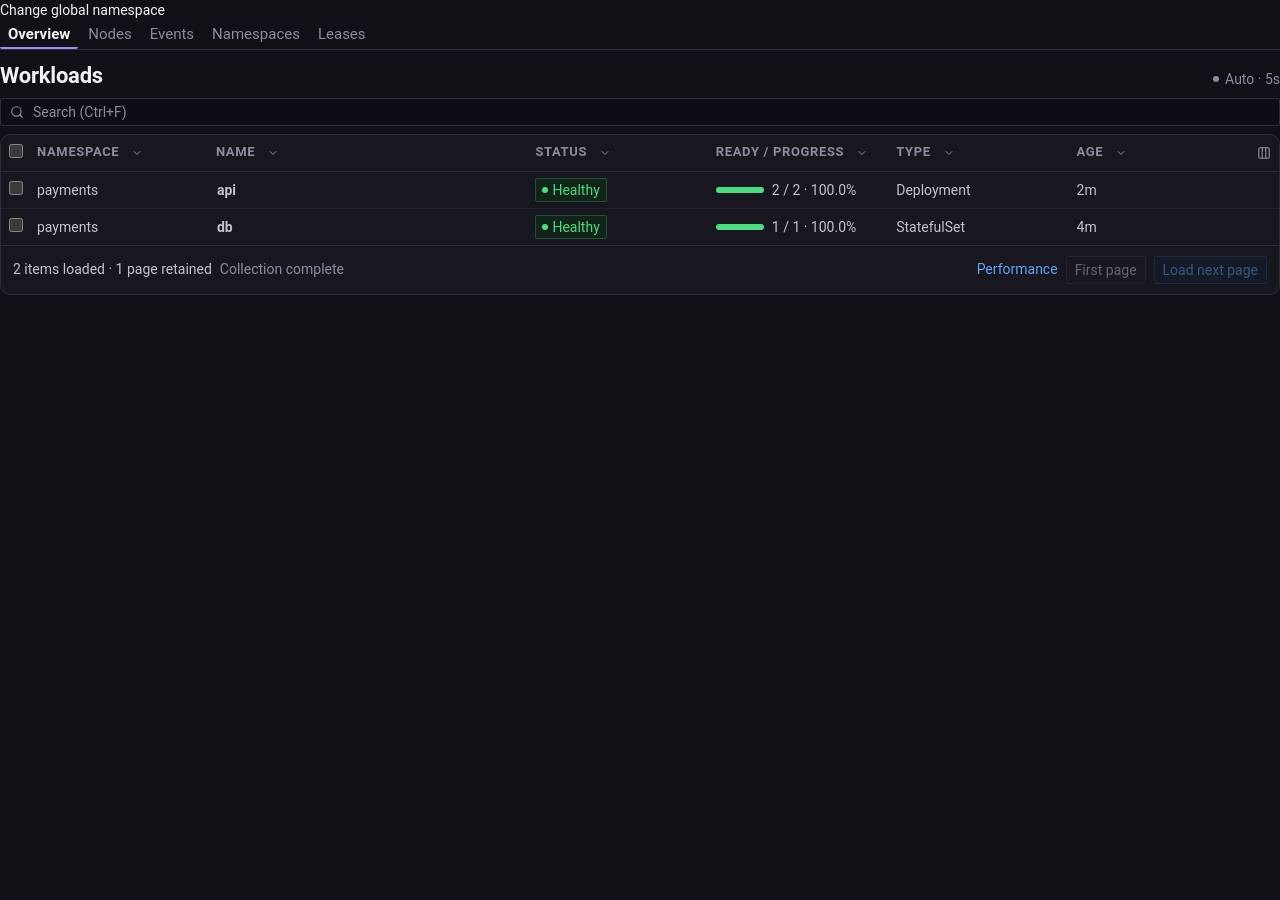
Test: read-only resource pages › restarts a compatible authorized workload selection with one contextual confirmation
Step 1. Click the checkbox named "Select row Deployment/payments/api" → (16, 188), box left=9, top=180, right=23, bottom=194
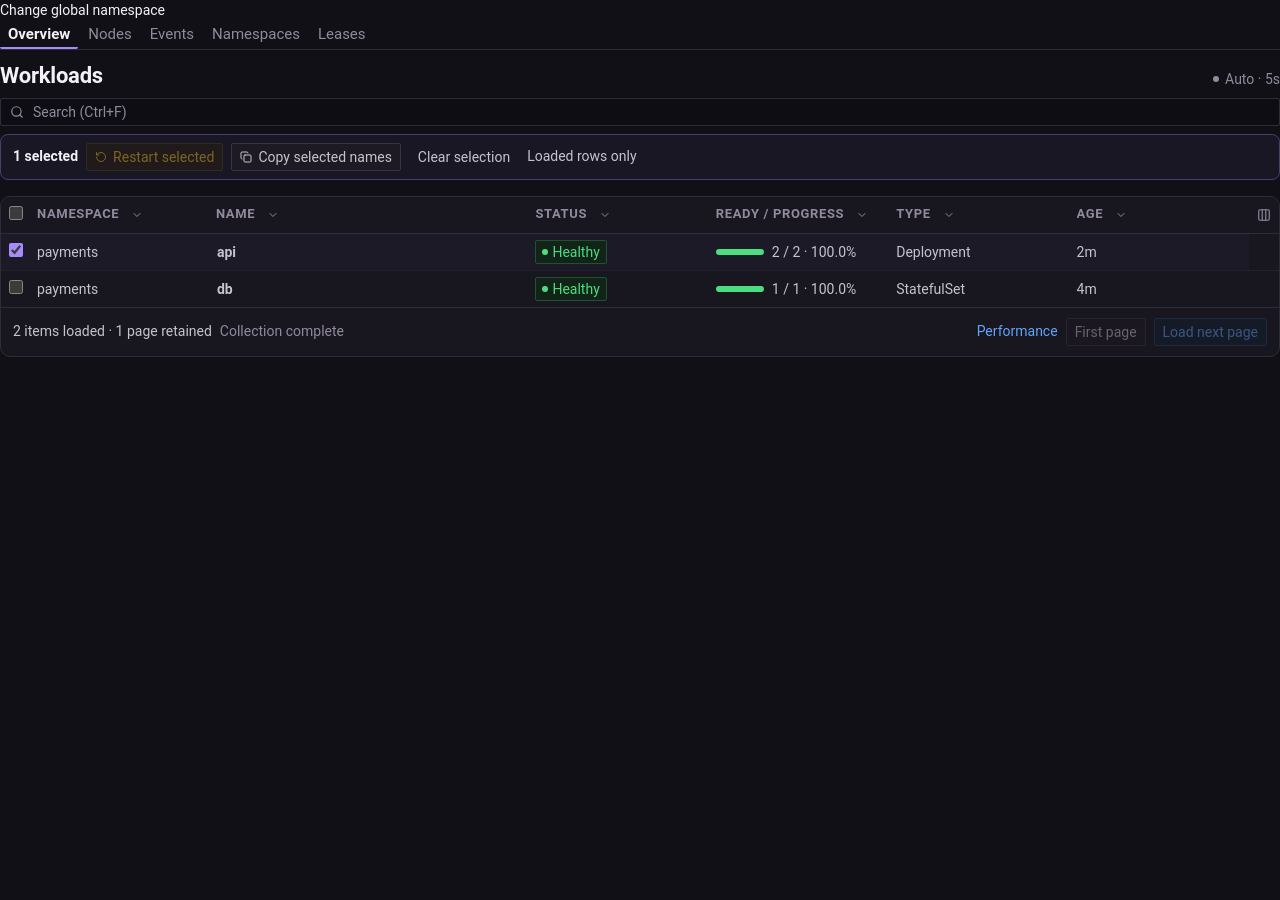
Step 2. Click the checkbox named "Select row StatefulSet/payments/db" → (16, 286), box left=9, top=280, right=23, bottom=294
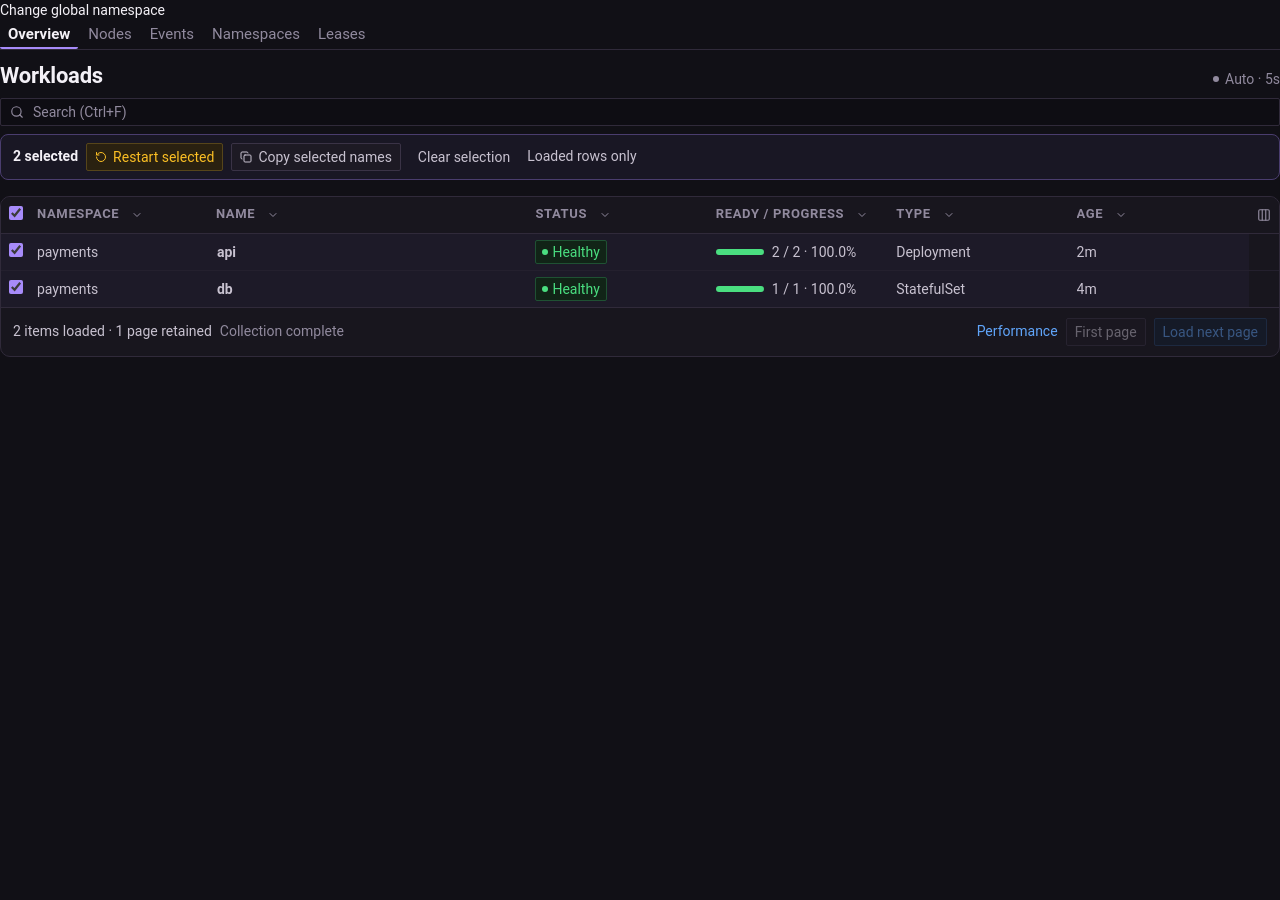
Now the element named "Bulk actions" shows "2 selected", box left=0, top=134, right=1279, bottom=180
Now the button "Restart selected" is enabled
Step 3. Click the button "Restart selected" → (155, 156), box left=86, top=142, right=223, bottom=170
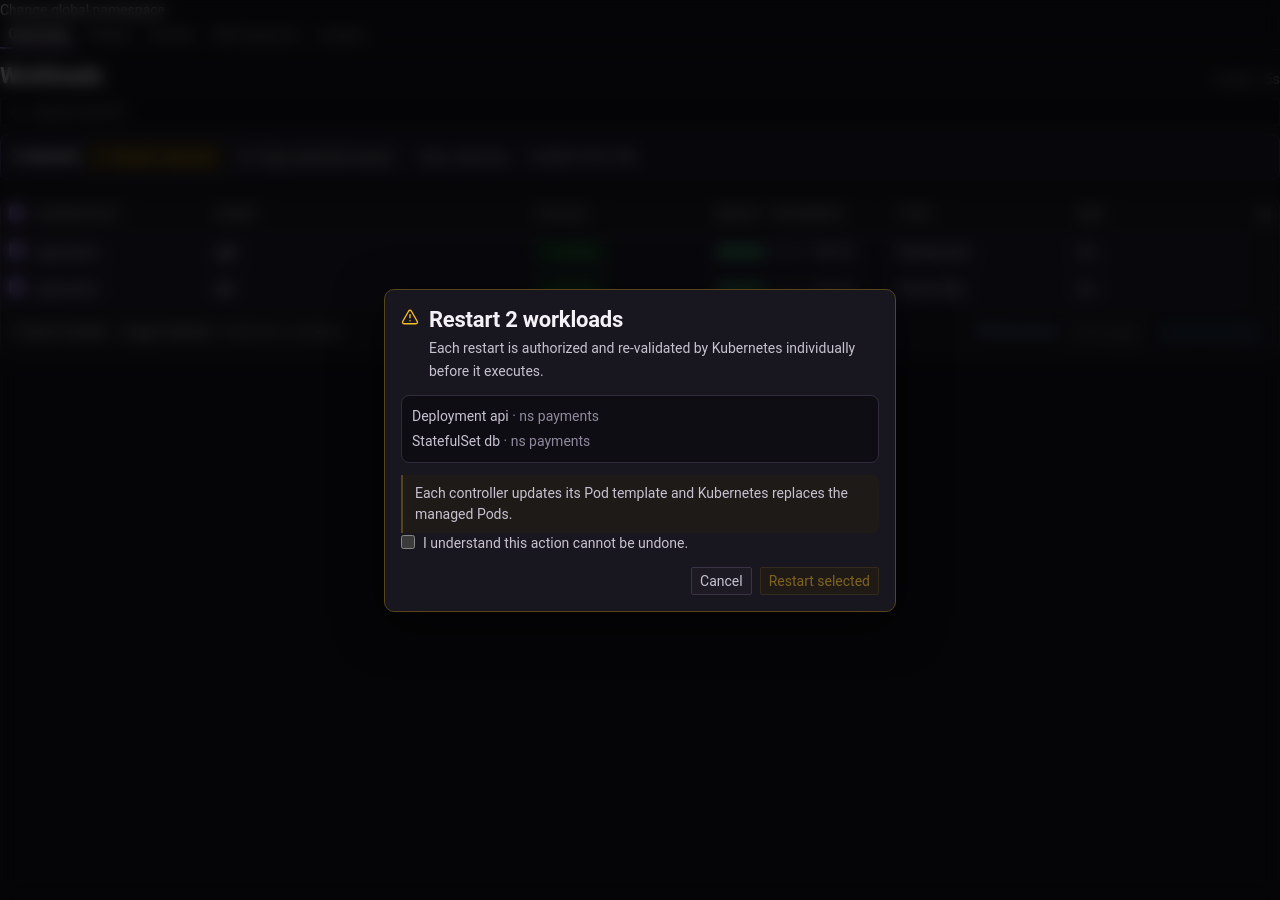
Step 4. Click the checkbox → (408, 542), box left=401, top=534, right=415, bottom=548
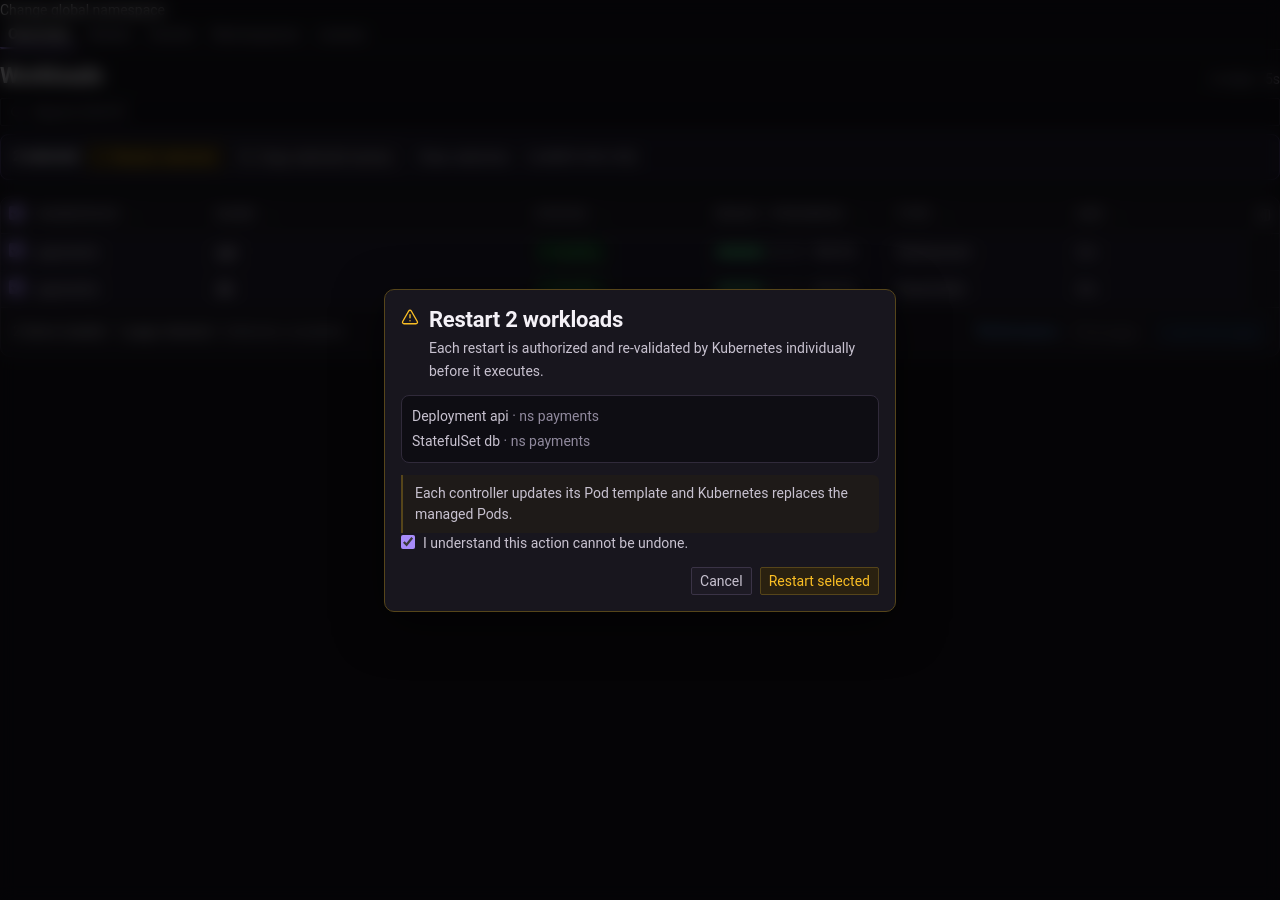
Step 5. Click the button "Restart selected" → (819, 580), box left=760, top=566, right=879, bottom=594
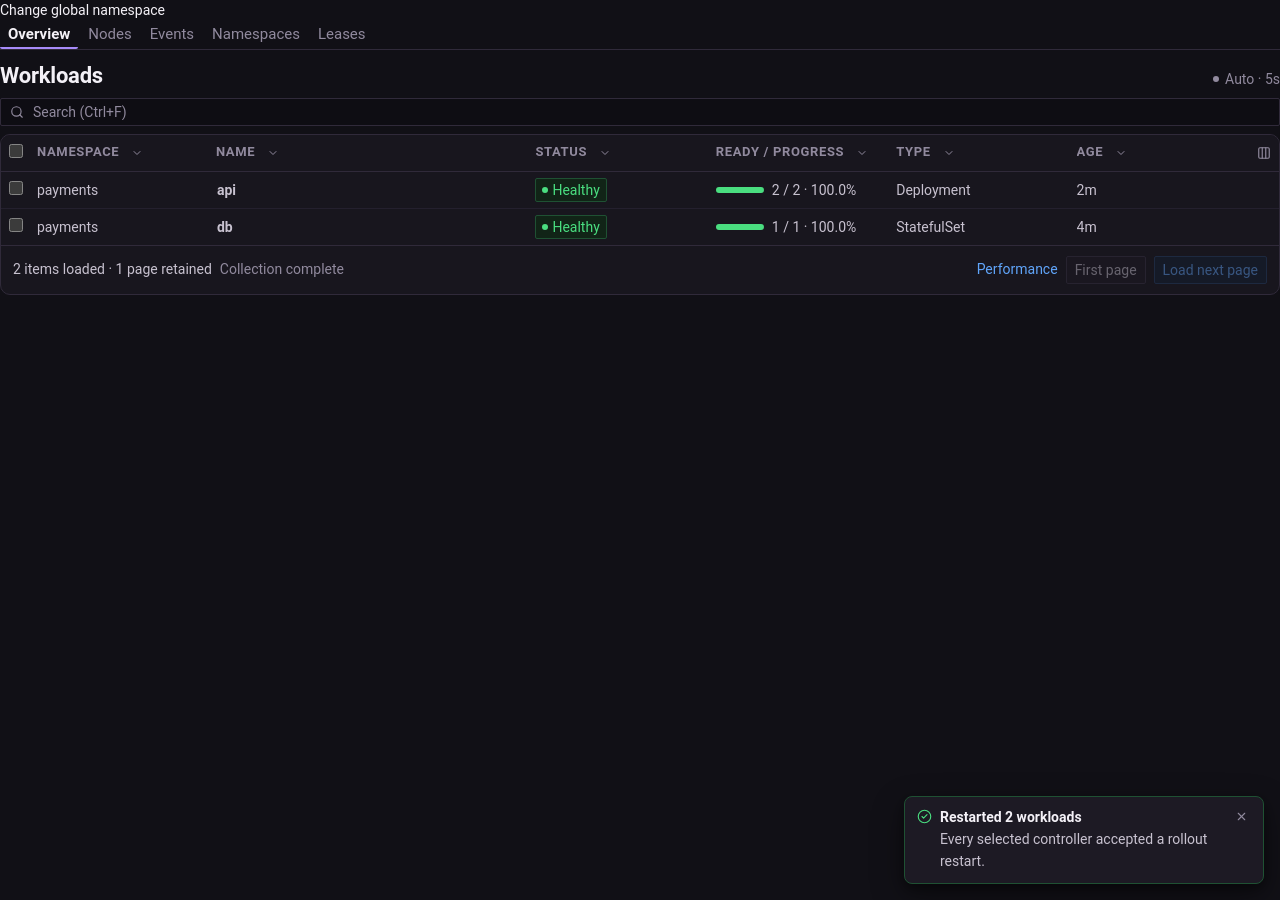
Now the message shows "Restarted 2 workloads", box left=940, top=808, right=1082, bottom=824
